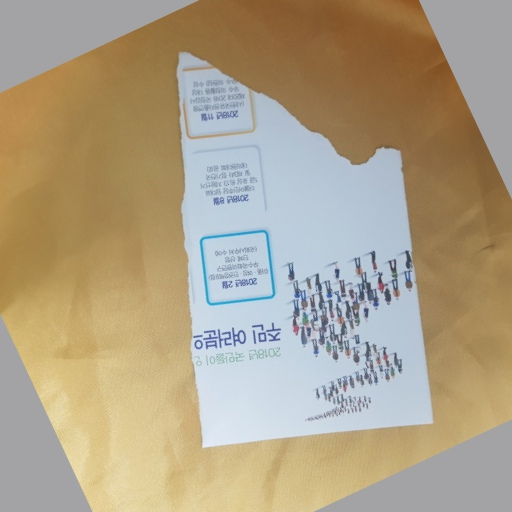Paper_2: (179, 164, 462, 457)
